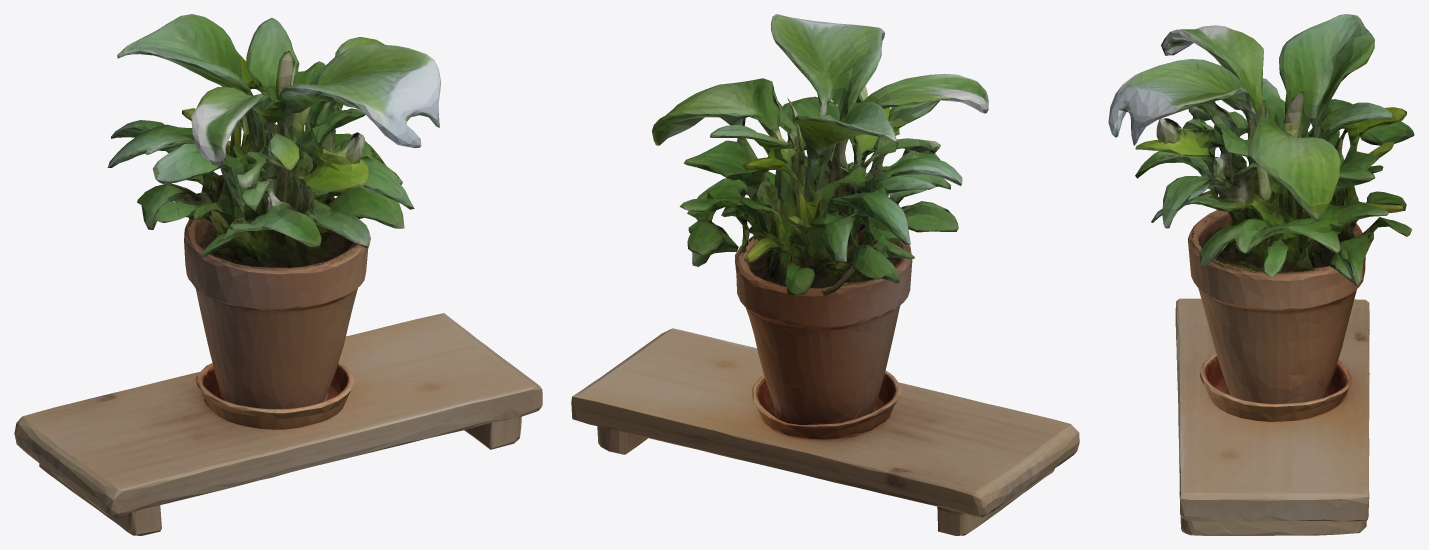
File: ast_0b091395b9c2.glb
The picture shows the model from 3 angles, left to right: view 1: azimuth 30°, elevation 25°; view 2: azimuth 150°, elevation 25°; view 3: azimuth 270°, elevation 25°; orthographic projection. The views are drawn at different scales.
Visible parts, largest first — view 1: geometry_0; view 2: geometry_0; view 3: geometry_0.
Boxes of the visible parts, x1=… form: geometry_0: x1=14, y1=14, x2=542, y2=535; geometry_0: x1=571, y1=14, x2=1079, y2=535; geometry_0: x1=1108, y1=14, x2=1414, y2=535.
Size of the model in its own units: 0.6577 by 0.5904 by 0.4204.
Materials: 1 (1 with a texture image).
